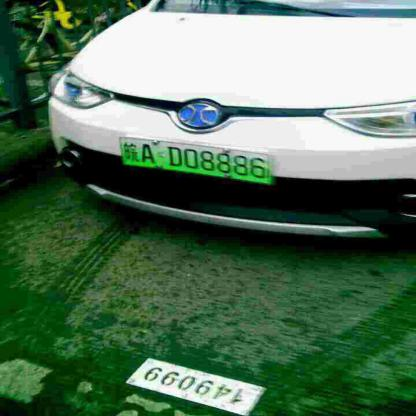lp: (118, 136, 271, 186)
